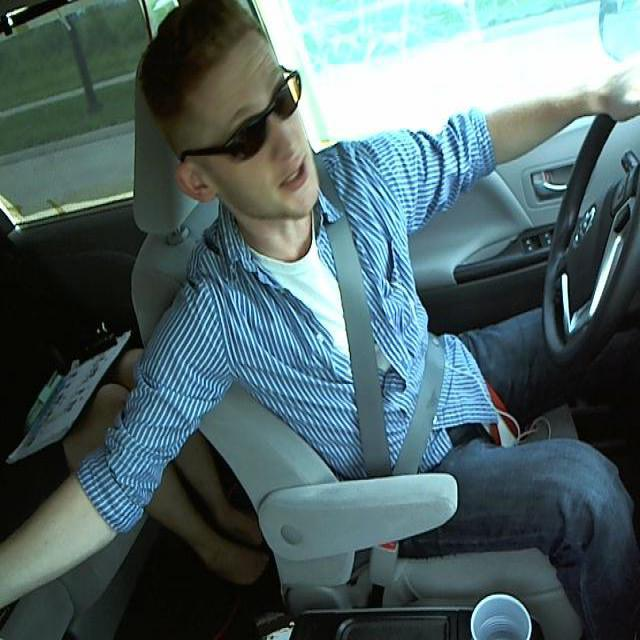seatbelt: (318, 240, 430, 468)
